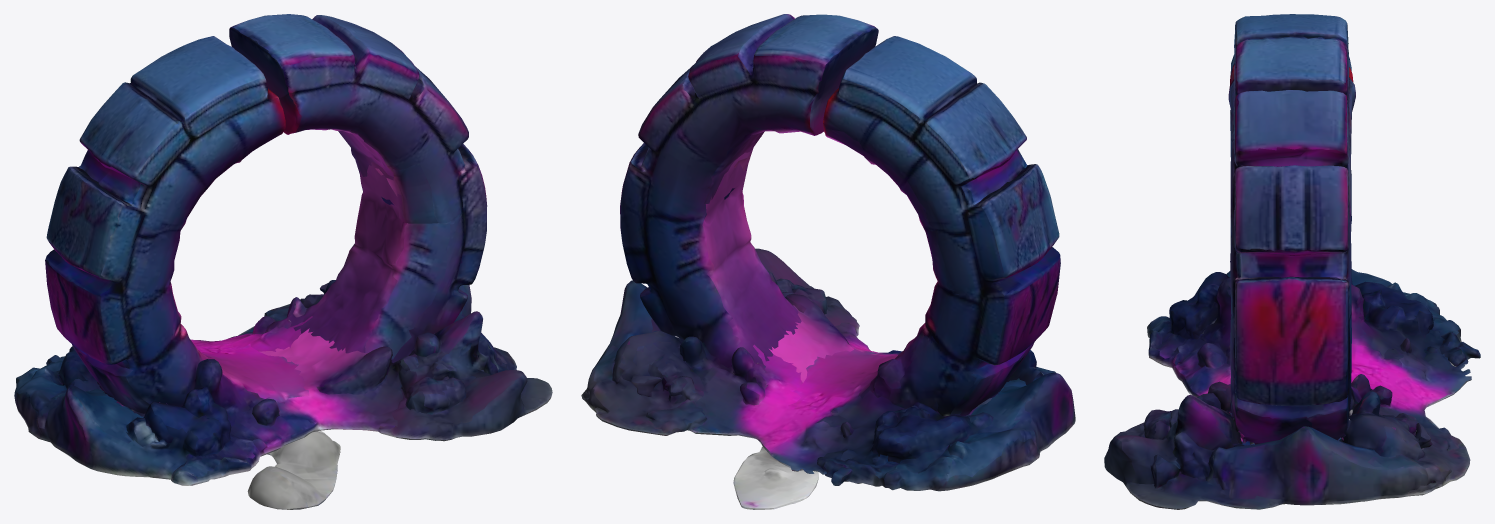
The model's file is broken-ring-generated-2026-05-17T21-02-15-898Z.low.glb.
The picture shows the model from 3 angles, left to right: view 1: azimuth 30°, elevation 25°; view 2: azimuth 150°, elevation 25°; view 3: azimuth 270°, elevation 25°; orthographic projection.
Parts seen in each view (by area): view 1: temp_mesh.ply; view 2: temp_mesh.ply; view 3: temp_mesh.ply.
Part boxes in pixels (x1=…): temp_mesh.ply: x1=14, y1=14, x2=552, y2=509; temp_mesh.ply: x1=581, y1=14, x2=1075, y2=509; temp_mesh.ply: x1=1104, y1=14, x2=1480, y2=509.
Bounding box in the file's own units: 1.96 × 1.83 × 1.45.
1 material, 1 textured.
